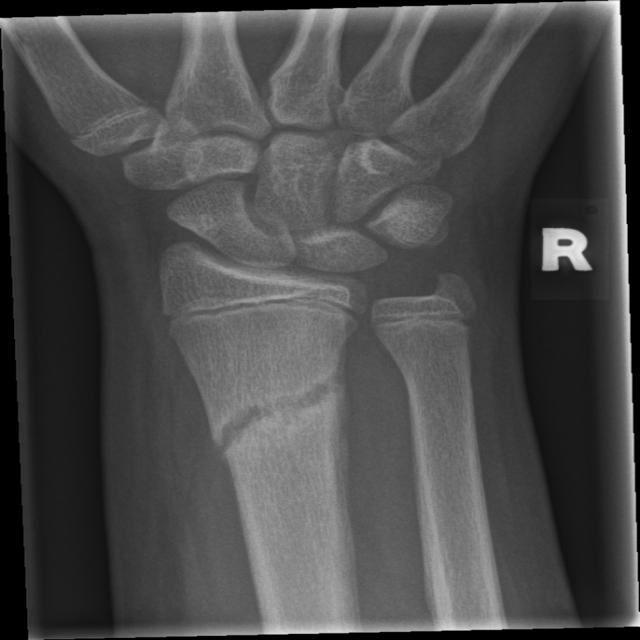radius fracture: (178, 344, 379, 542)
